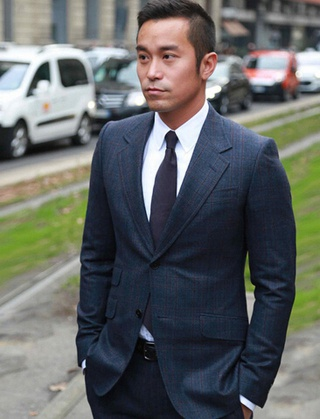male: (127, 1, 230, 122)
